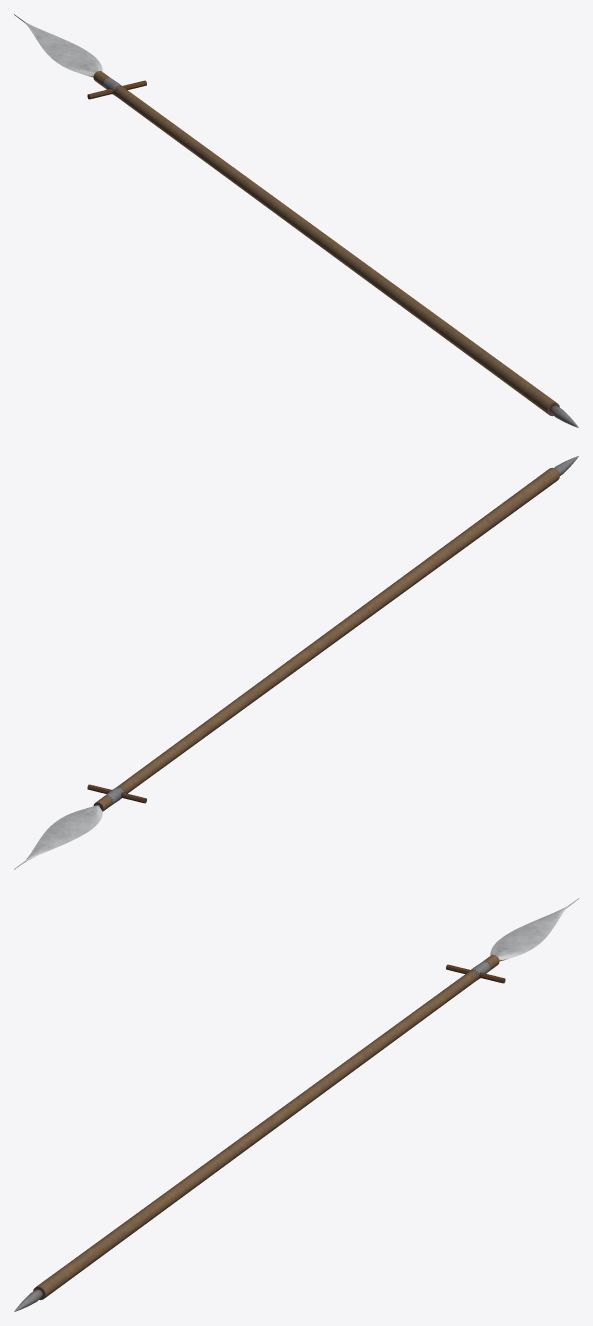
Rendered from boar_spear.glb.
The picture shows the model from 3 angles, top to bottom: view 1: azimuth 30°, elevation 25°; view 2: azimuth 150°, elevation 25°; view 3: azimuth 330°, elevation 25°; orthographic projection.
Visible parts, largest first — view 1: boar_spear; view 2: boar_spear; view 3: boar_spear.
Boxes of the visible parts, x1,y1,x2,y2 form: boar_spear: (14,14,578,427); boar_spear: (14,456,578,869); boar_spear: (14,898,578,1311).
Size of the model in its own units: 0.14 by 0.0302 by 2.41.
Materials: 1 (1 with a texture image).
